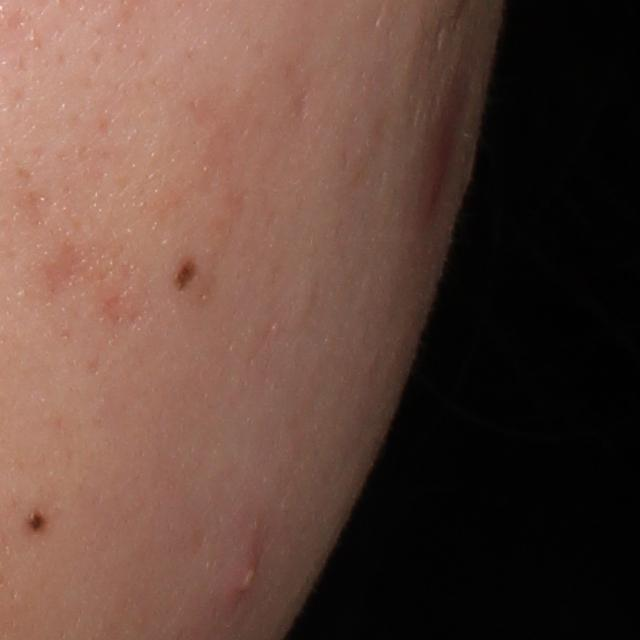nevus: (176, 260, 195, 290)
